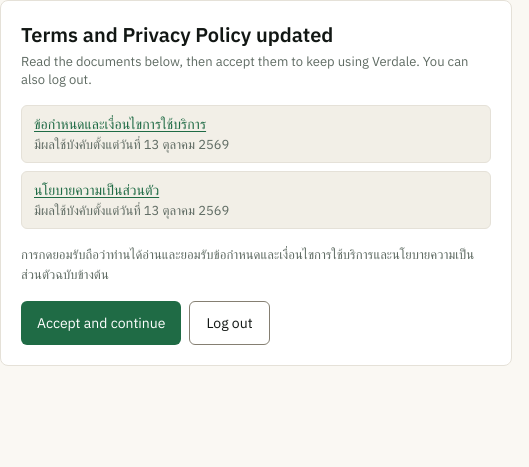
Scenario: AcceptTermsCard › shows what Core said when the documents changed under the page, and stays
The width and height of the screenshot is (529, 467).
Click the button "Accept and continue" at {"x": 101, "y": 323}, box [21,301,181,345]
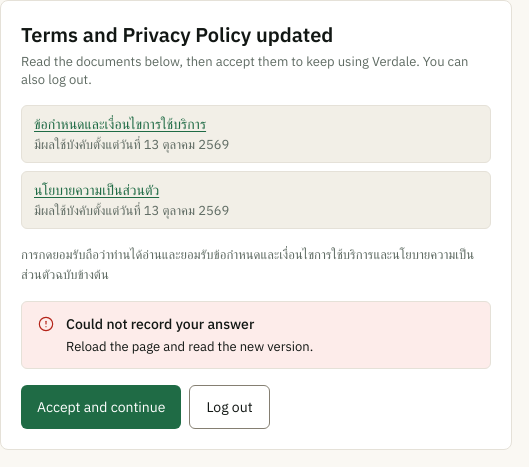
Check: the button "Accept and continue" is enabled, box [21,385,181,429]
Check: the message shows "Reload the page and read the new version.", box [66,338,313,355]
